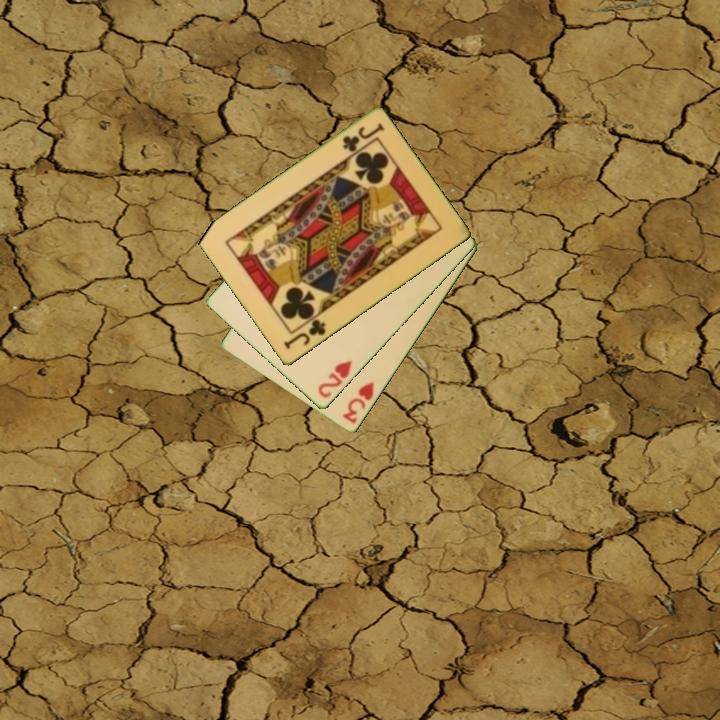2h: (314, 357, 355, 401)
3h: (339, 379, 377, 427)
Jc: (280, 316, 329, 353), (339, 120, 387, 155)
